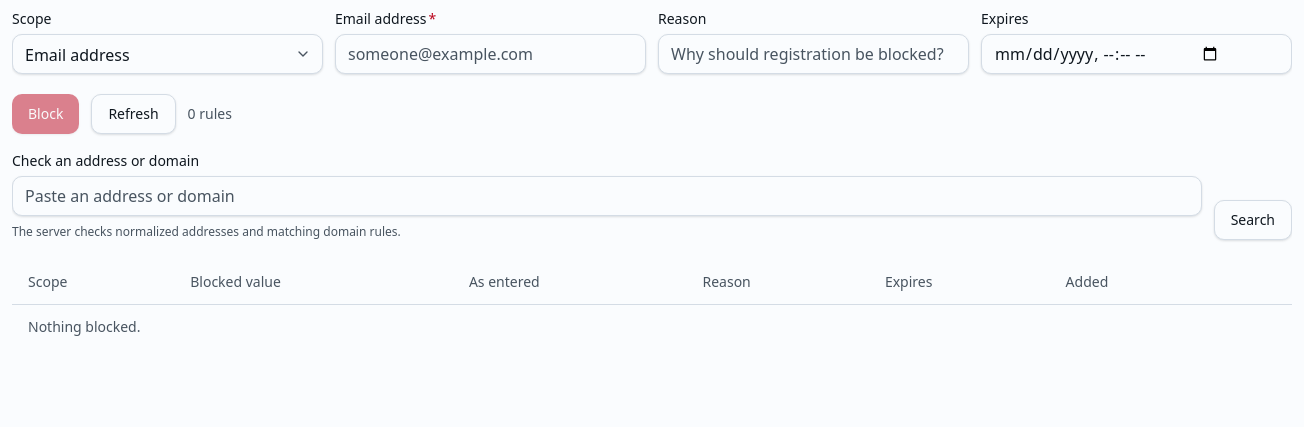
Test: EmailBlocklistPanel › says so when a rule was already there
This screenshot has width=1304, height=427.
Type "ann+spam@gmail.com" into the field named "Value" at (490, 54), box left=335, top=34, right=646, bottom=74
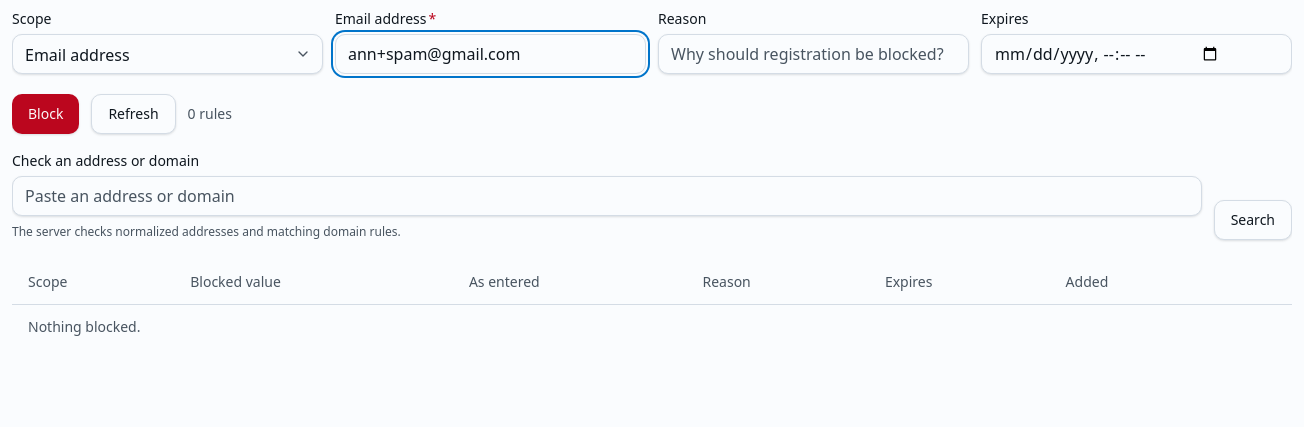
Click the button "Block" at (46, 114), box left=12, top=94, right=79, bottom=134
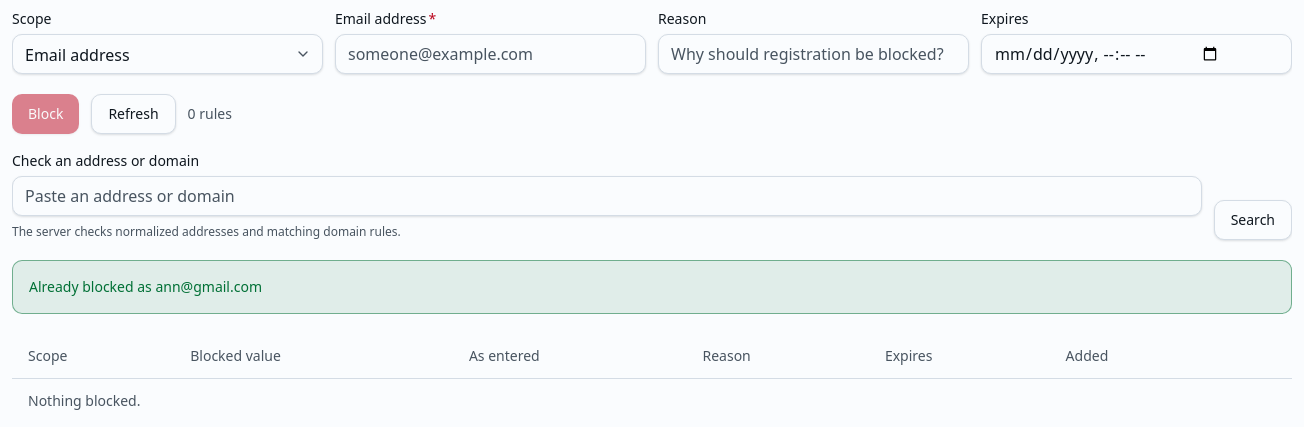
Expected: the message reads "Already blocked as ann@gmail.com", left=29, top=277, right=262, bottom=296
